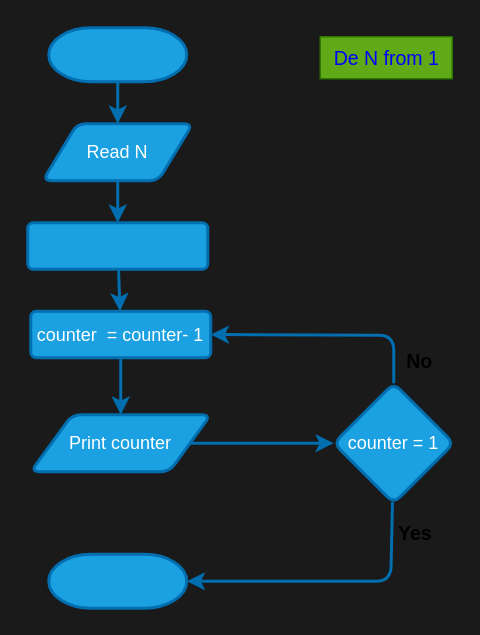
Image size: 480x635. Some labels were removed from this diagram. The centre of each missing label's shape, as x and y in pixels:
counter = N + 1: [117,245]
End: [117,580]
Start: [117,54]
